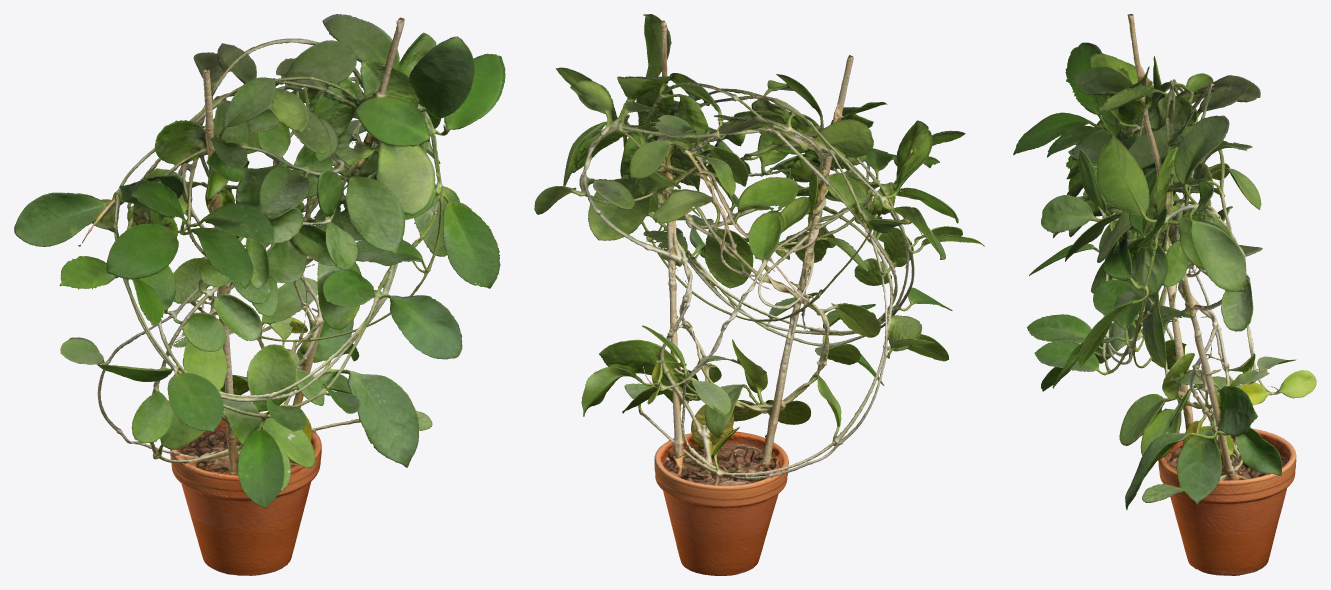
File: sf-hoya-australis-05a909.glb
The picture shows the model from 3 angles, left to right: view 1: azimuth 30°, elevation 25°; view 2: azimuth 150°, elevation 25°; view 3: azimuth 270°, elevation 25°; orthographic projection. The views are drawn at different scales.
Parts seen in each view (by area): view 1: Object_2; view 2: Object_2; view 3: Object_2.
Boxes of the visible parts, x1,y1,x2,y2 form: Object_2: (14, 14, 505, 575); Object_2: (534, 14, 984, 575); Object_2: (1013, 14, 1316, 575).
Bounding box in the file's own units: 8.07 × 9.19 × 5.01.
1 material, 1 textured.
